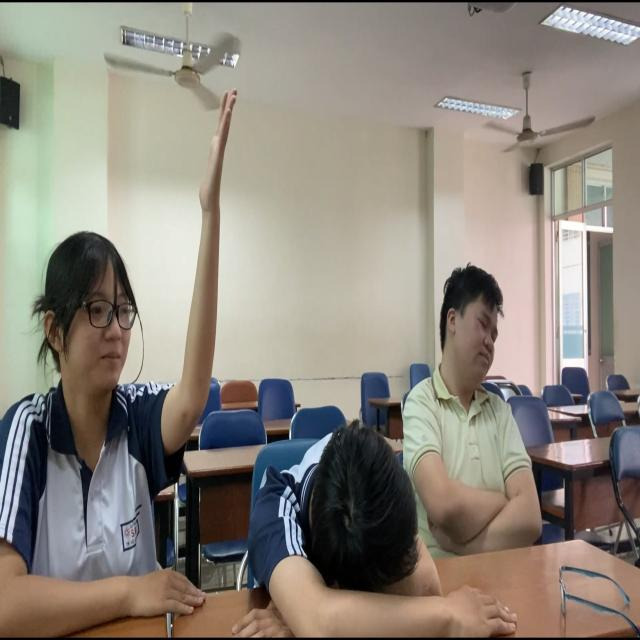raise_hand: (1, 87, 245, 640)
sleep: (249, 417, 445, 639)
